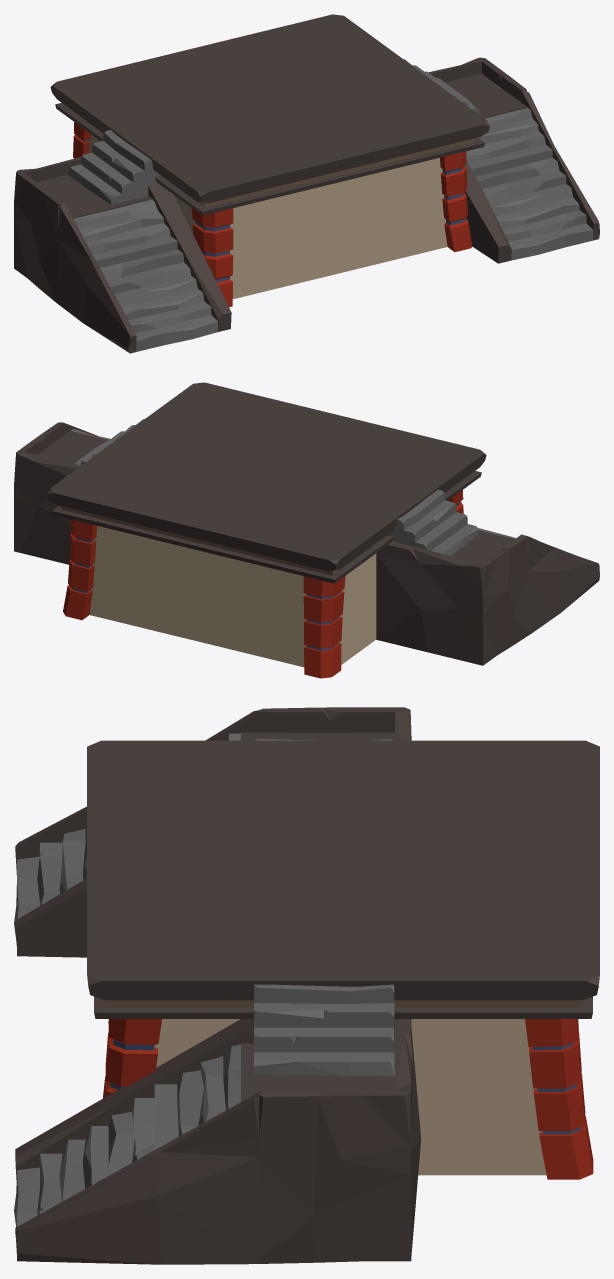
File: Building_6.fbx
The picture shows the model from 3 angles, top to bottom: view 1: azimuth 30°, elevation 25°; view 2: azimuth 150°, elevation 25°; view 3: azimuth 270°, elevation 25°; orthographic projection. The views are drawn at different scales.
Visible parts, largest first — view 1: Building_6; view 2: Building_6; view 3: Building_6.
Part boxes in pixels (left/top/right/bottom): Building_6: left=14, top=14, right=599, bottom=353; Building_6: left=14, top=382, right=599, bottom=678; Building_6: left=14, top=707, right=599, bottom=1264.
Size of the model in its own units: 12.28 by 3 by 7.69.
